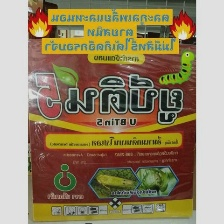book: (21, 33, 211, 223)
